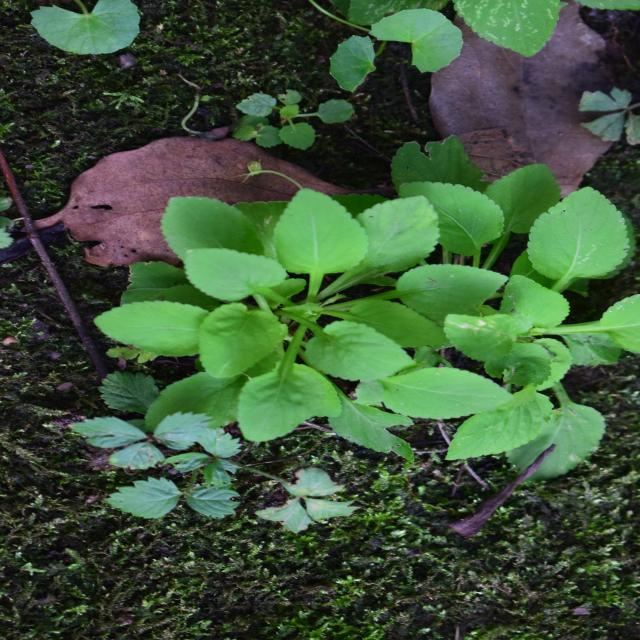Viola: (176, 157, 437, 465)
